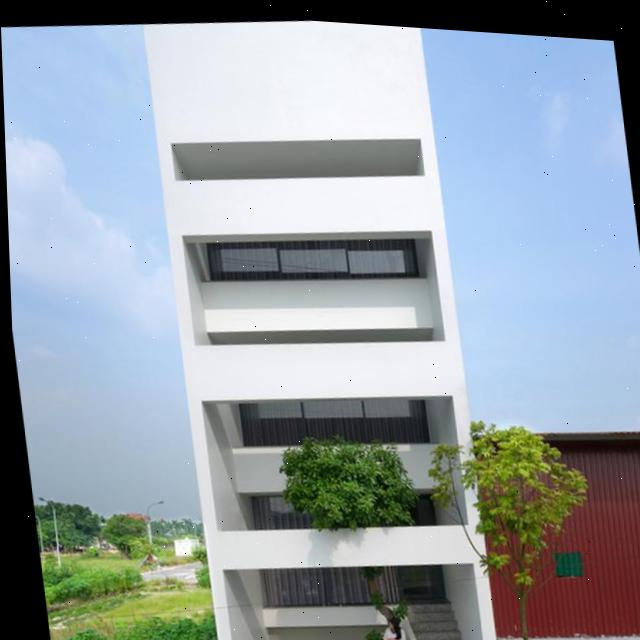building: (139, 9, 500, 640), (467, 413, 640, 640)
